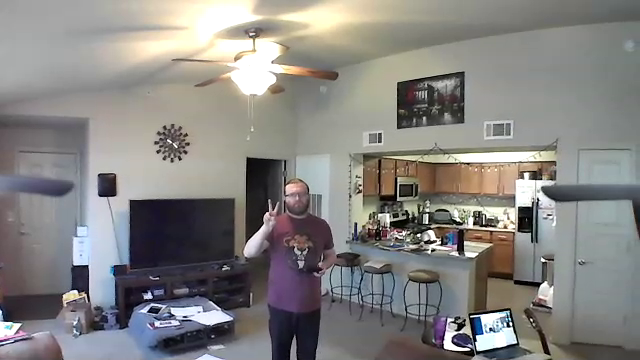peace: (259, 196, 283, 231)
